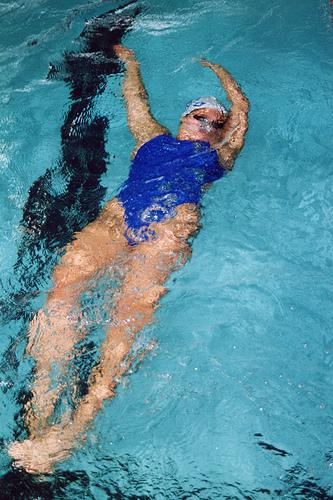human: (8, 46, 250, 472)
